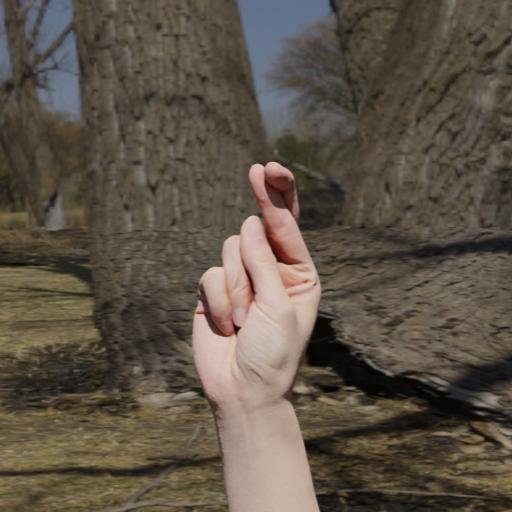R: (172, 148, 336, 492)
